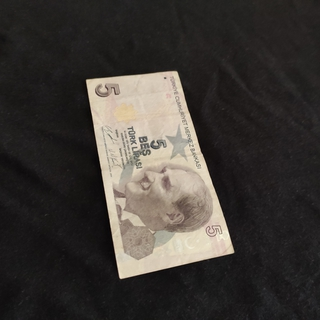5TLFront: (85, 70, 235, 279)
